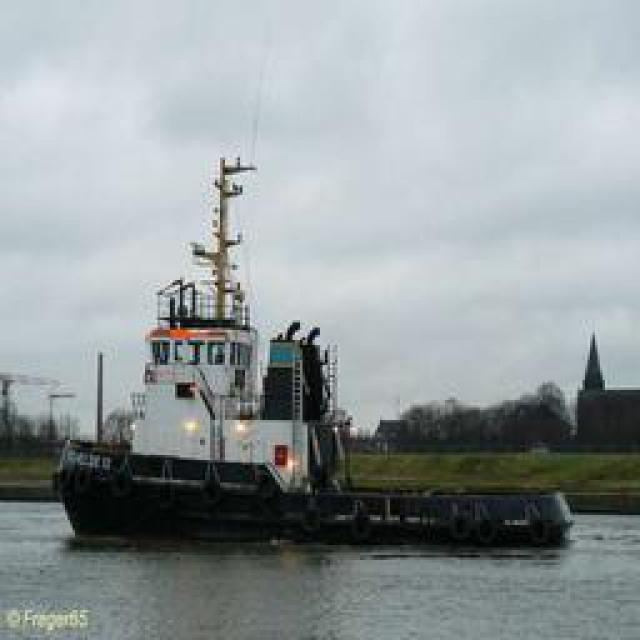Ship: (52, 137, 593, 551)
